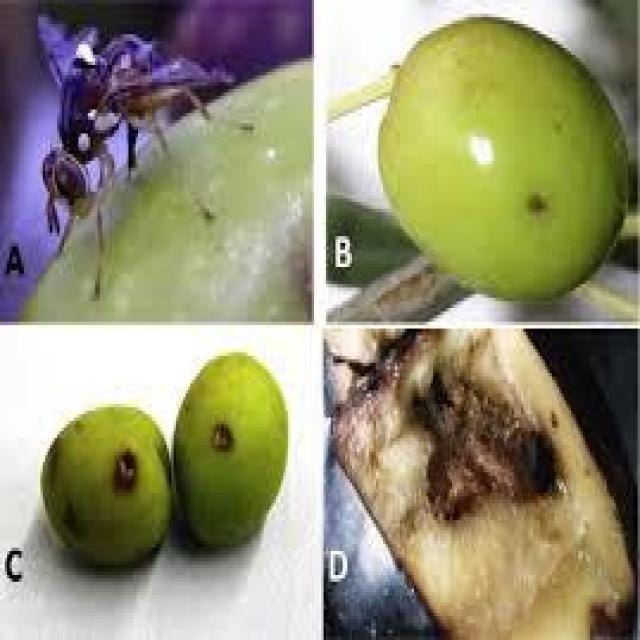Olive Fruit Fly: (331, 329, 633, 637), (381, 17, 626, 291), (38, 14, 269, 264), (174, 353, 283, 544), (43, 407, 167, 561)
